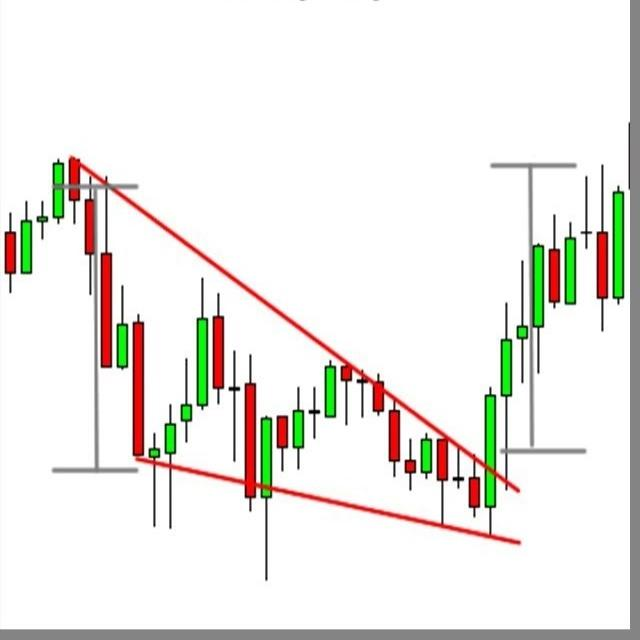Falling-Wedge: (5, 135, 540, 548)
